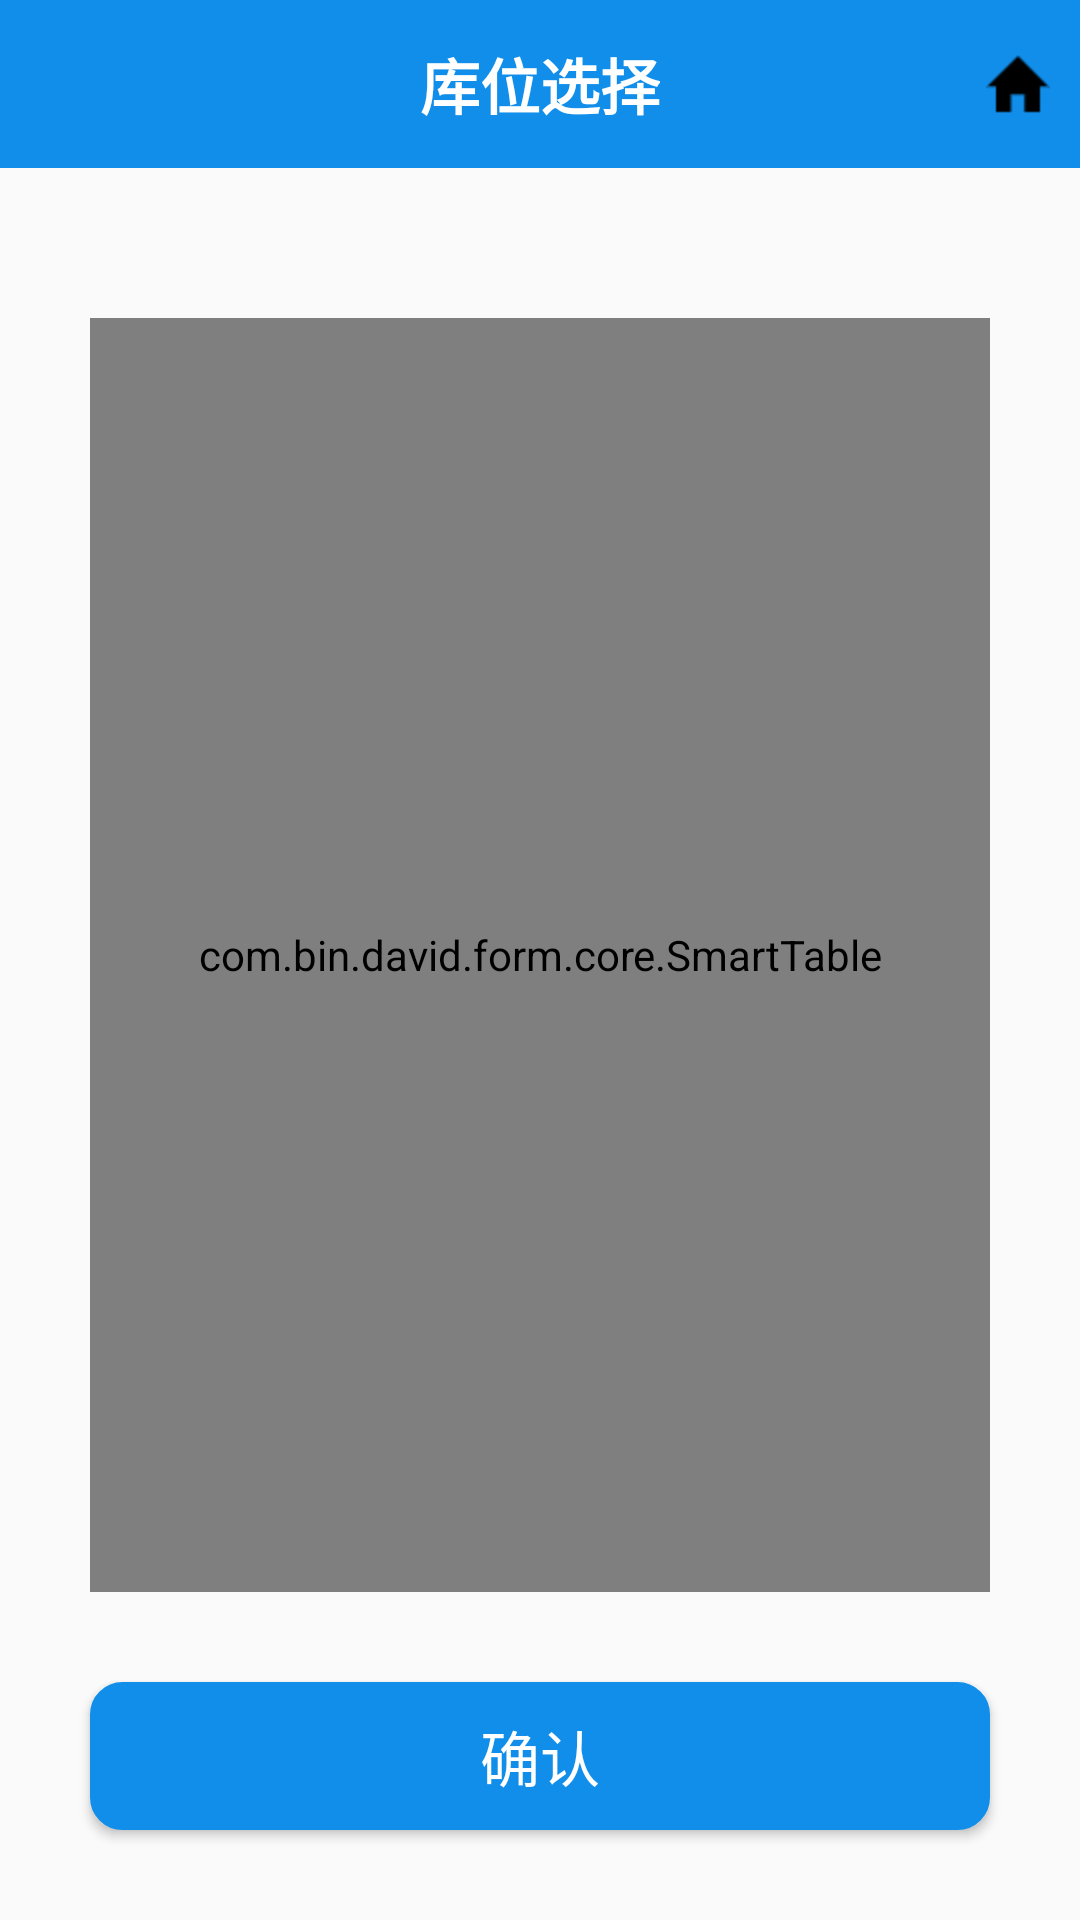

Where to tap for icons on this 1080px x 1920px app screen, as point (x, y):
home: point (1018, 84)
